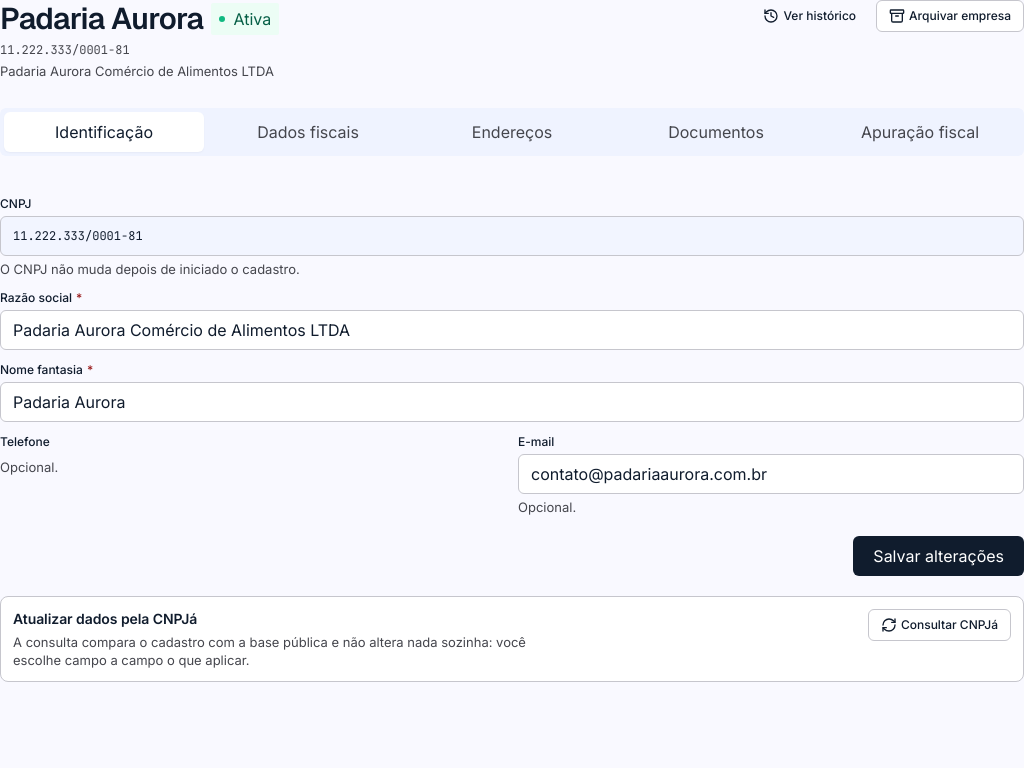
Test: arquivamento exige justificativa (§3.5) › recusa confirmar com a justificativa vazia
The width and height of the screenshot is (1024, 768).
Click the button "Arquivar empresa". click: (950, 16)
box: [876, 0, 1023, 32]
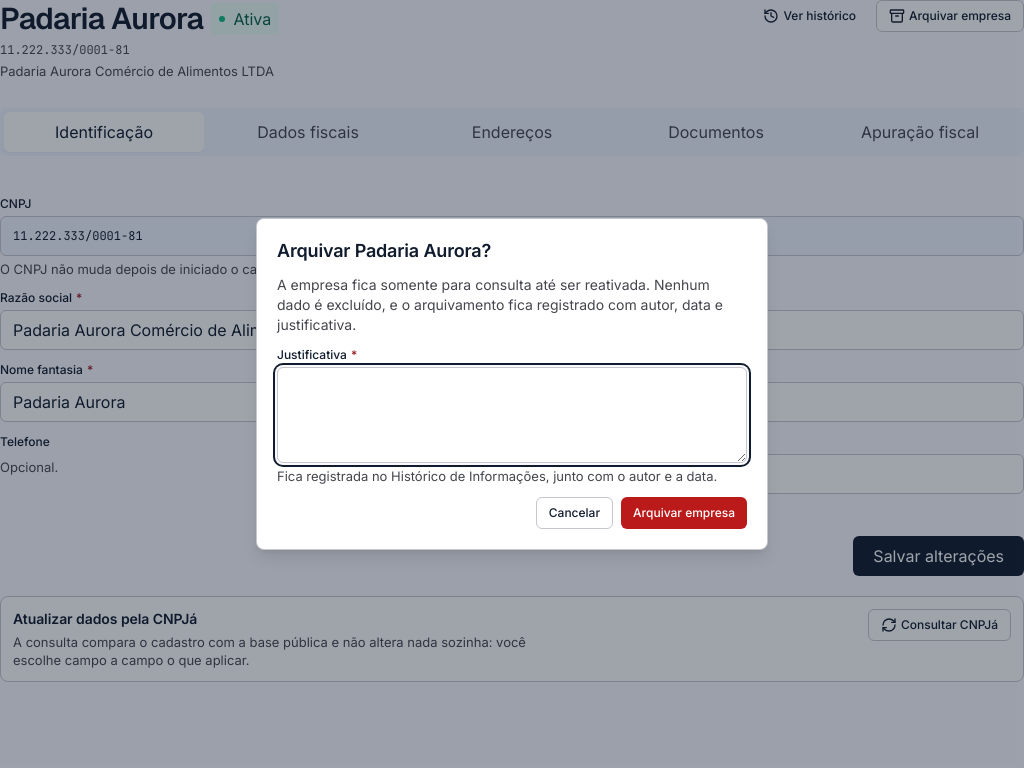
Click the button "Arquivar empresa". click: (684, 513)
box: [621, 497, 747, 529]
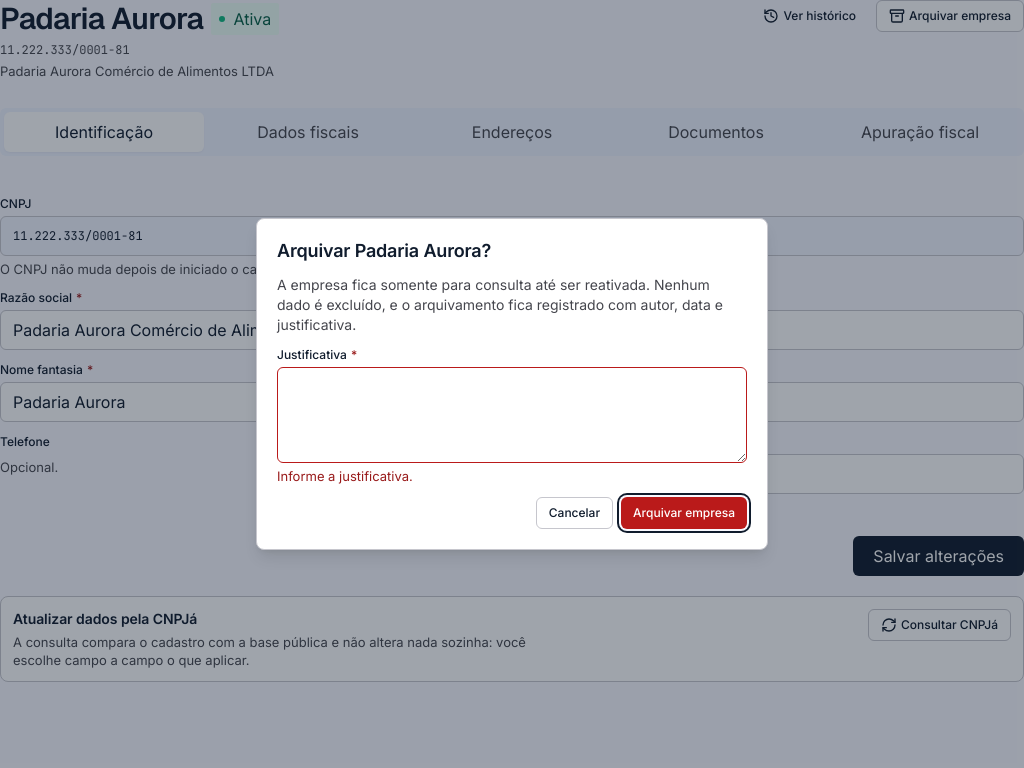
Expected: the text "Informe a justificativa." is shown, [277, 468, 413, 484]
